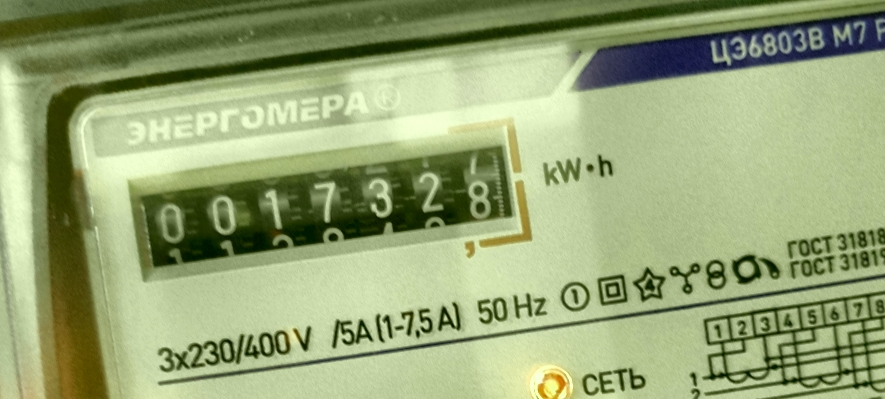0: (152, 201, 190, 249), (205, 191, 240, 240)
1: (259, 185, 286, 234)
2: (411, 169, 446, 217)
3: (362, 175, 395, 222)
7: (309, 179, 342, 229)
8: (462, 178, 493, 223)
screen: (116, 119, 540, 303)
